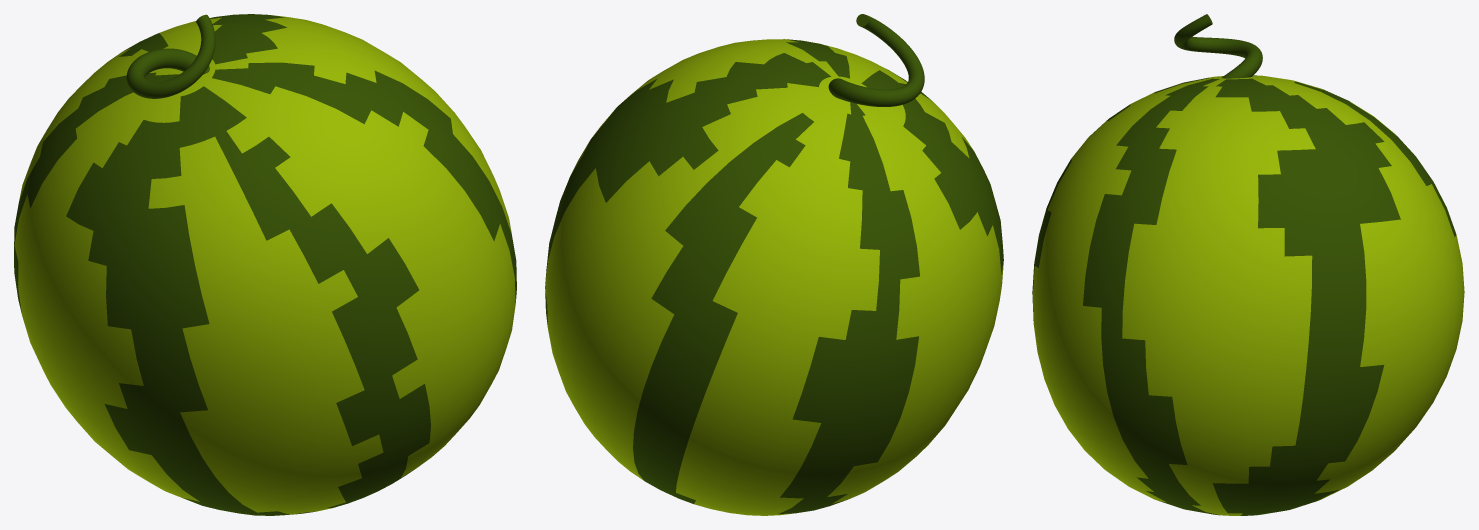
The model's file is Watermelon.fbx.
3 renders of one model, left to right at view 1: azimuth 30°, elevation 25°; view 2: azimuth 150°, elevation 25°; view 3: azimuth 270°, elevation 25°, orthographic. The views are drawn at different scales.
Visible parts, largest first — view 1: Sphere, Sweep; view 2: Sphere, Sweep; view 3: Sphere, Sweep.
Boxes of the visible parts, x1=… form: Sphere: x1=14, y1=14, x2=516, y2=515; Sweep: x1=126, y1=14, x2=215, y2=98; Sphere: x1=545, y1=39, x2=1003, y2=515; Sweep: x1=828, y1=14, x2=924, y2=106; Sphere: x1=1032, y1=75, x2=1464, y2=515; Sweep: x1=1174, y1=14, x2=1262, y2=78.
Size of the model in its own units: 186 by 214 by 188.
